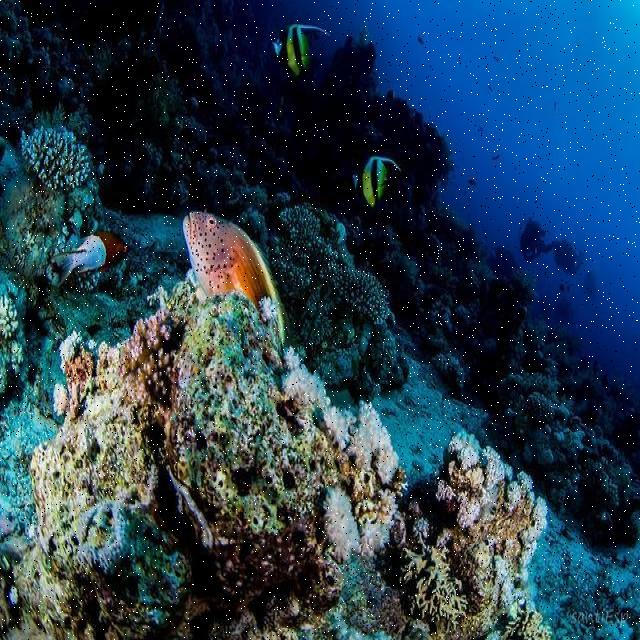fish: (181, 209, 286, 343), (50, 232, 129, 284), (266, 23, 327, 76), (348, 153, 403, 208)
reefs: (25, 128, 91, 189)
